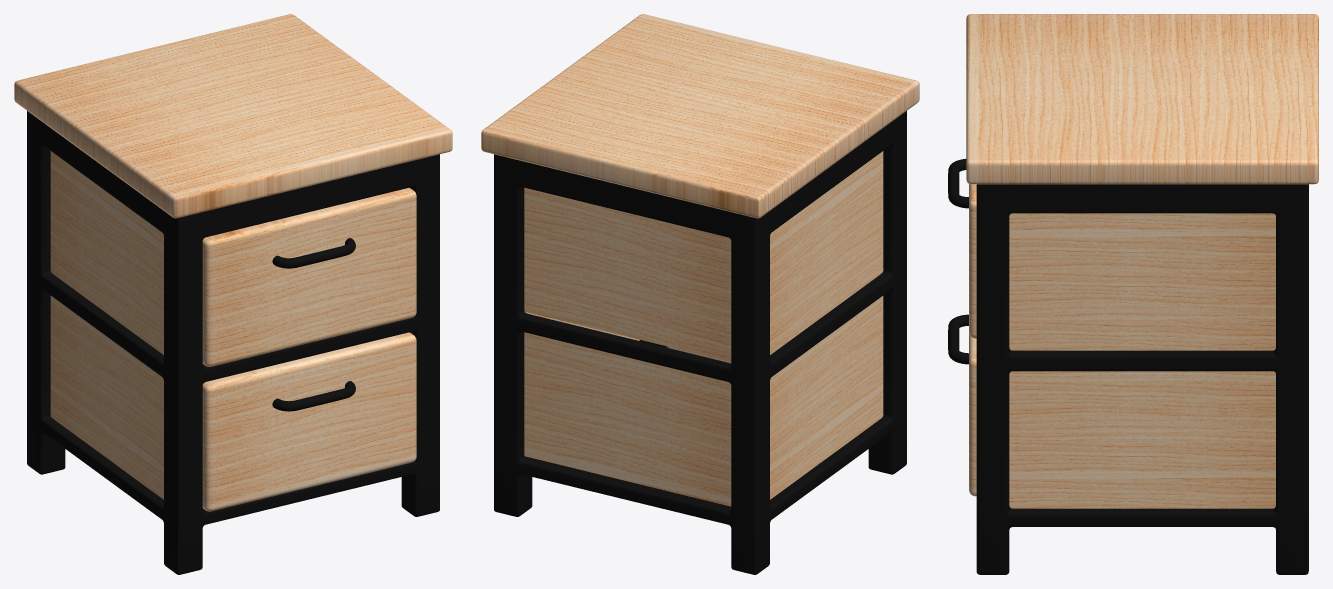
File: 검은서랍.fbx
3 renders of one model, left to right at view 1: azimuth 30°, elevation 25°; view 2: azimuth 150°, elevation 25°; view 3: azimuth 270°, elevation 25°, orthographic. The views are drawn at different scales.
Visible parts, largest first — view 1: Object003, Object002, Box001, Object001, Cylinder003, Cylinder002; view 2: Box001, Object002, Object003, Object001; view 3: Object001, Object002, Box001, Object003, Cylinder003, Cylinder002.
Part boxes in pixels (x1,y1,x2,y2): Object003: (202,188,416,511); Object002: (14,14,452,218); Box001: (27,111,439,574); Object001: (50,151,409,499); Cylinder003: (272,381,355,411); Cylinder002: (272,238,355,268); Box001: (494,111,906,574); Object002: (481,14,919,218); Object003: (524,187,731,506); Object001: (525,151,883,499); Object001: (1009,213,1275,508); Object002: (966,14,1318,184); Box001: (976,184,1308,574); Object003: (969,184,976,496); Cylinder003: (948,314,968,364); Cylinder002: (948,158,968,208).
Size of the model in its own units: 38.69 by 50.71 by 40.71.
Materials: 2 (1 with a texture image).
